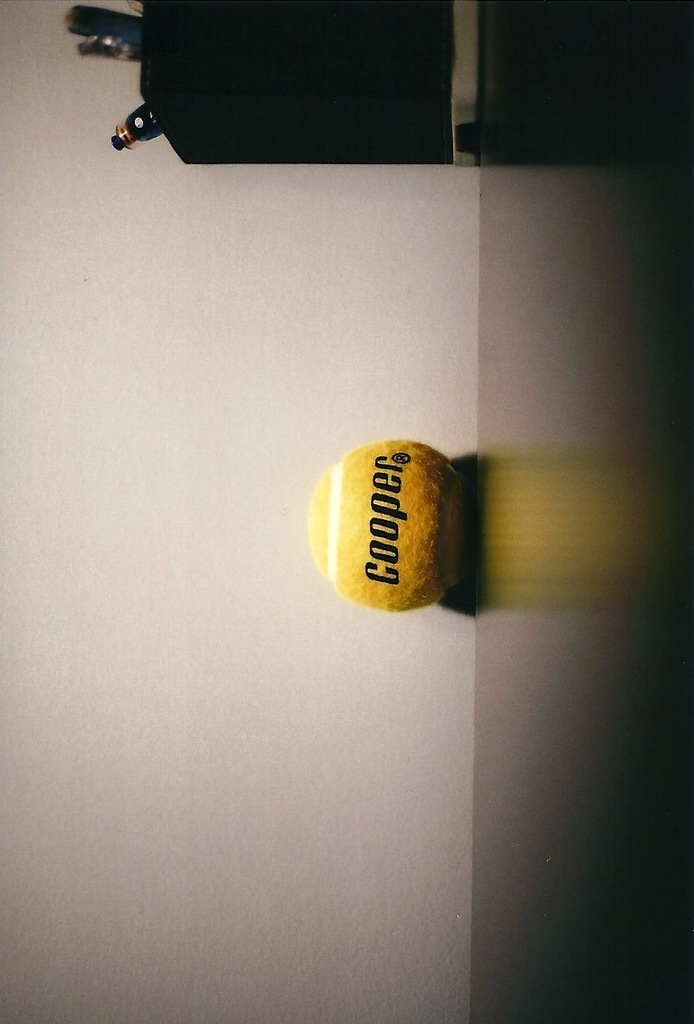Ball: (309, 441, 470, 612)
